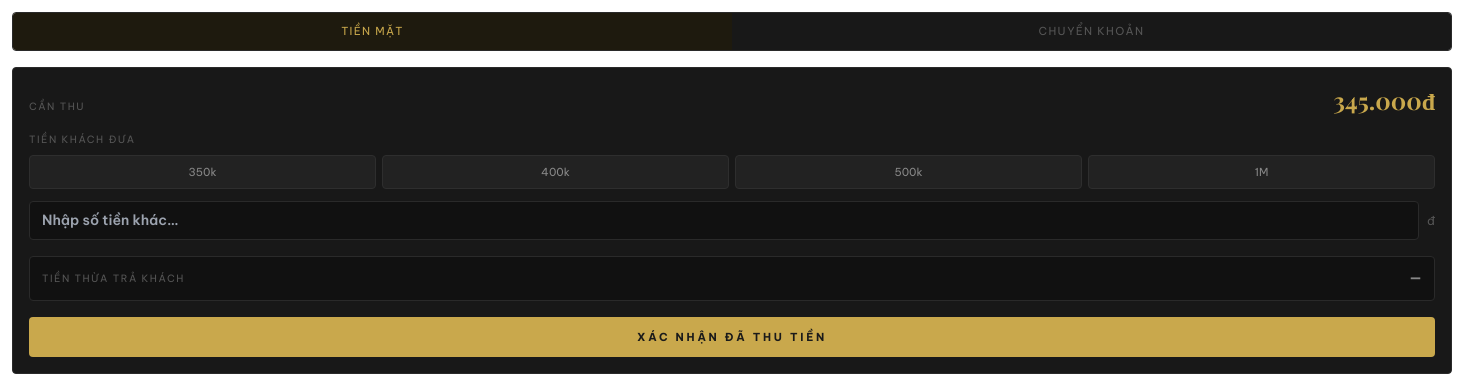
Test case: PaymentPanel › clicking preset fills input and shows change
Click the button "400k". click: click(556, 172)
box: [382,154,729,189]
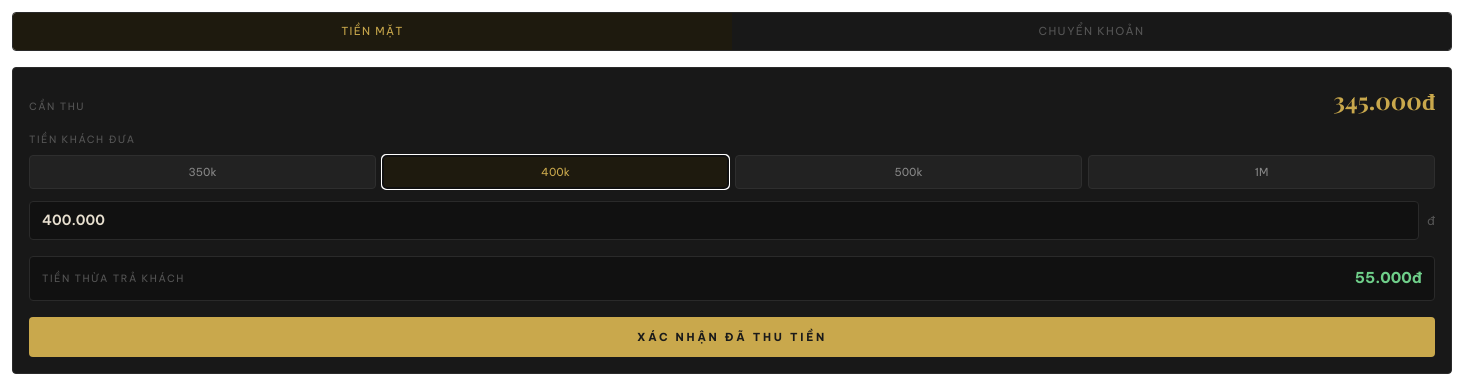
Result: the field showing "400.000" is shown at [29,201,1419,240]
Result: the text "55.000đ" is shown at [1355,267,1422,290]
